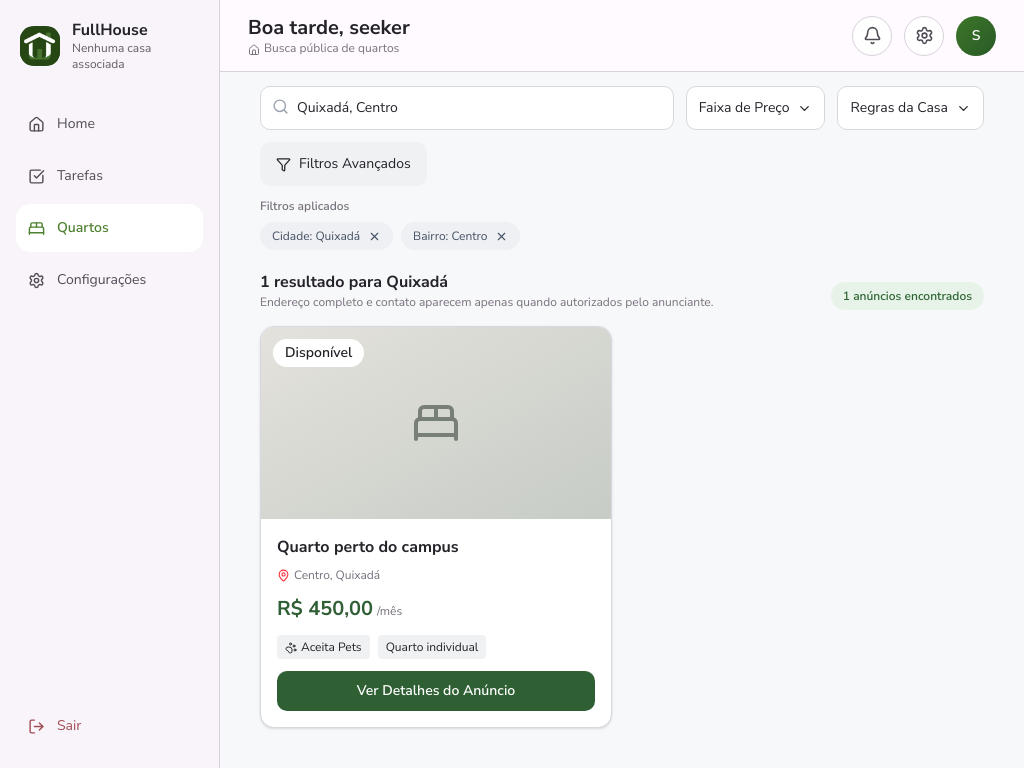
Test: RoomsPage › updates the listing after sending an interest instead of returning to the interests tab
The image size is (1024, 768).
(page scrolled)
Click the button "Ver Detalhes do Anúncio".
click(436, 691)  # box [277, 671, 595, 711]
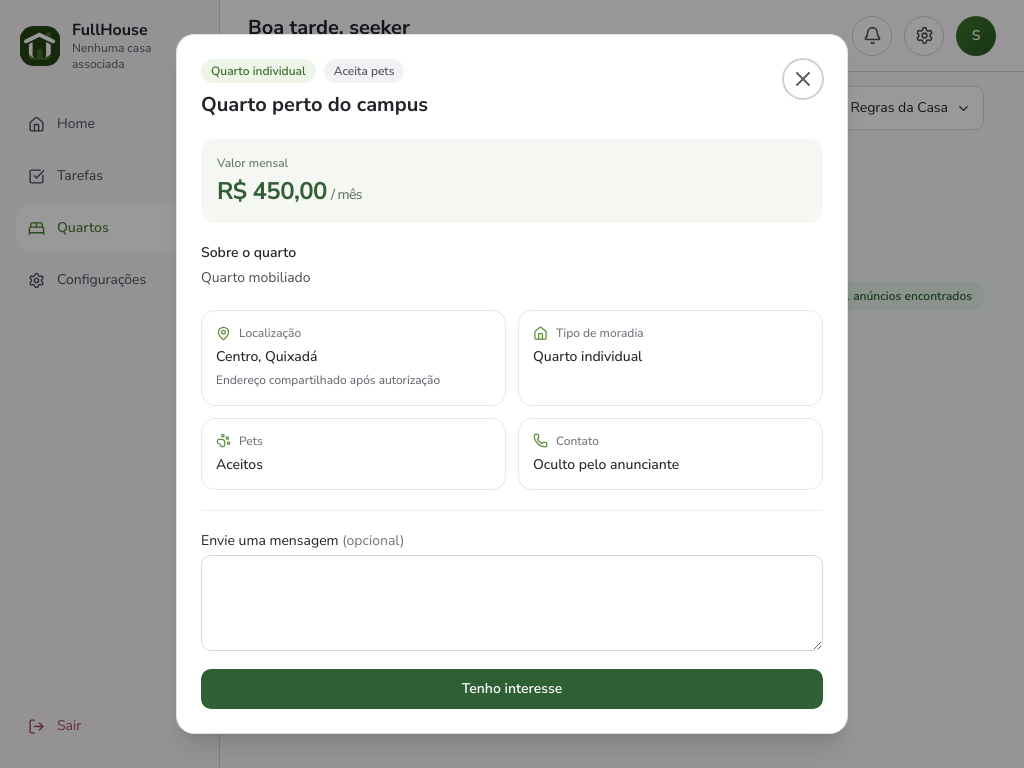
Click the button "Tenho interesse".
click(512, 689)  # box [201, 669, 823, 709]
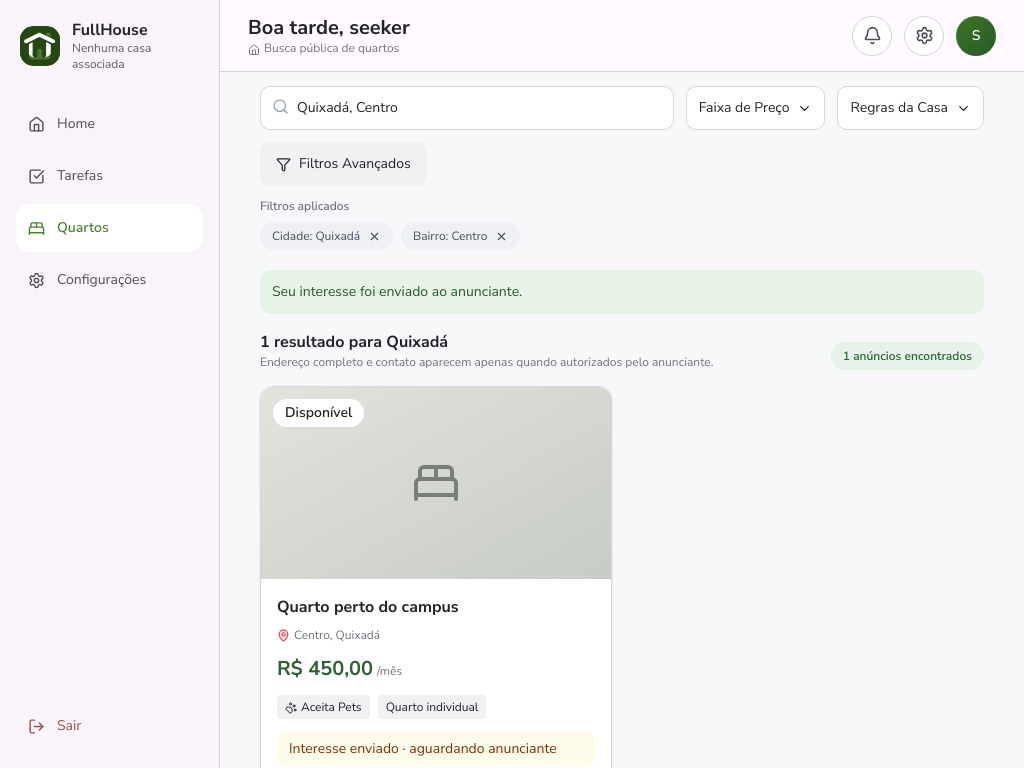
Expected: the text "Interesse enviado · aguardando anunciante" is shown, [277, 731, 595, 767]
Expected: the dialog is gone
